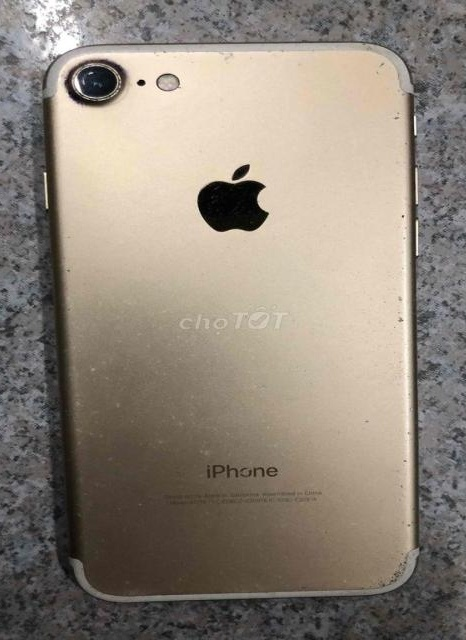scratch: (33, 33, 243, 119), (374, 414, 428, 597), (382, 175, 429, 356), (50, 335, 102, 497), (360, 38, 416, 131), (174, 402, 222, 464)
